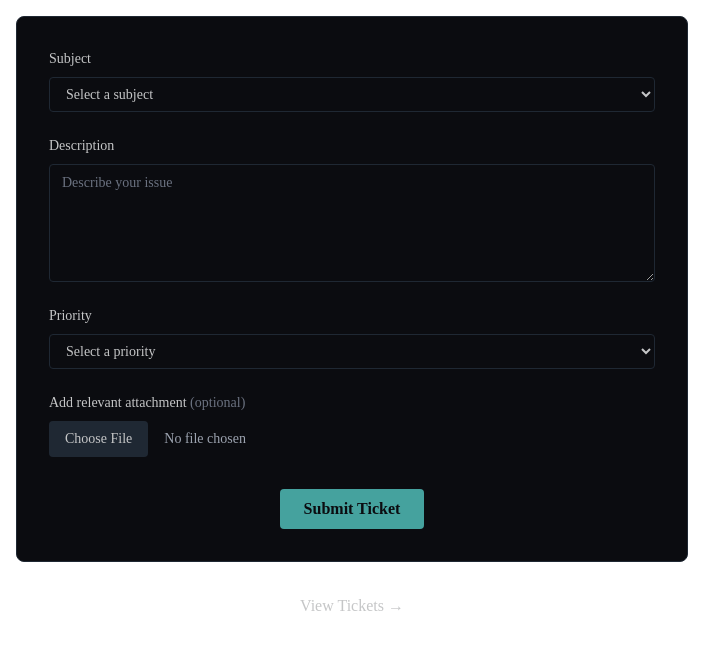
Scenario: TicketPage › submits ticket successfully
This screenshot has width=705, height=672.
Select "Chat" in the dropdown labelled "Subject" at x=352, y=94, box [49, 77, 655, 112]
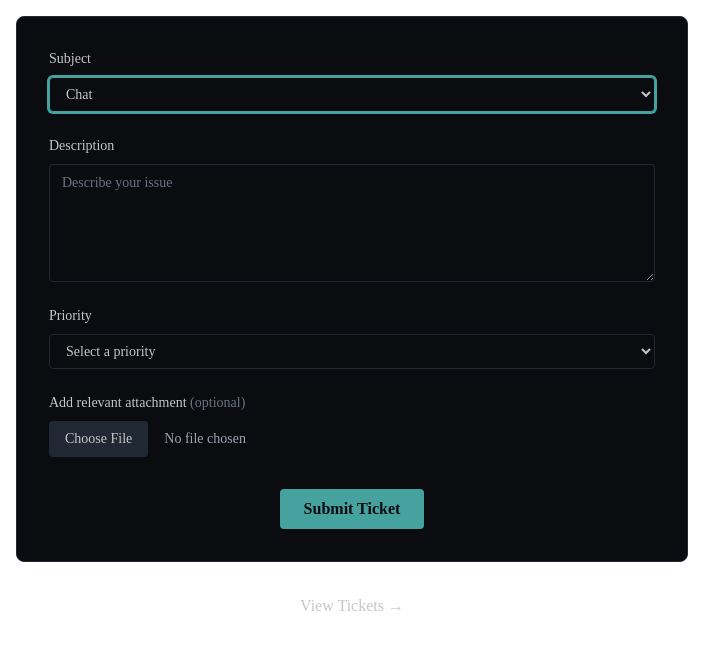
Type "Chat issue" into the text box labelled "Description".
click(352, 223); type("Chat issue")  # box [49, 164, 655, 282]
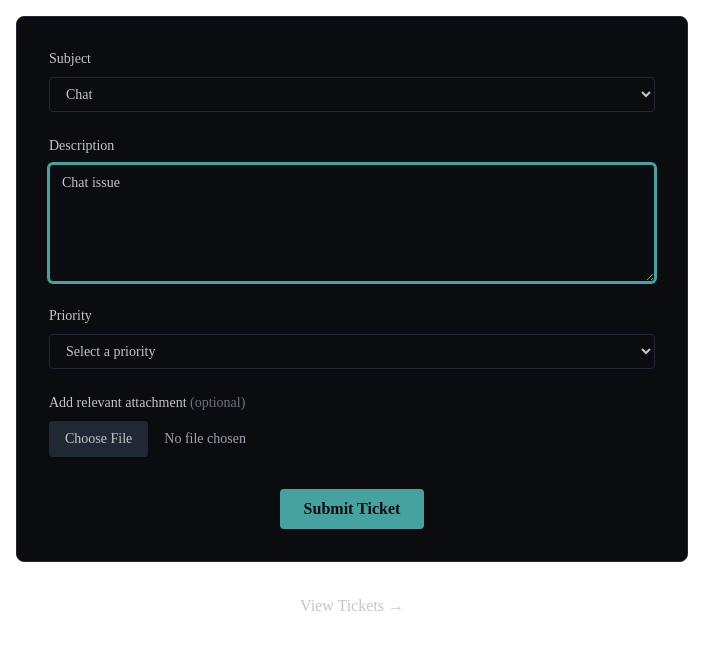
Select "High" in the dropdown labelled "Priority" at x=352, y=352, box [49, 334, 655, 369]
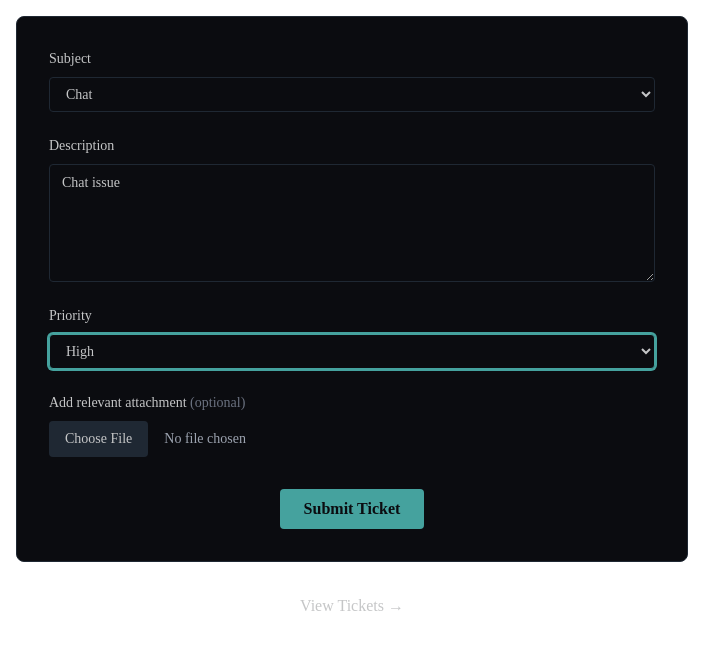
Click the button "Submit Ticket".
click(352, 509)  # box [280, 489, 424, 529]
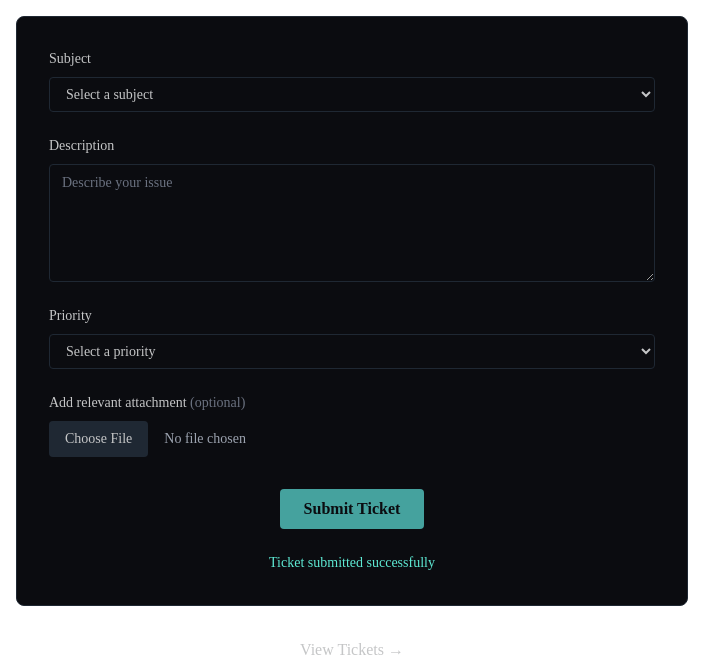
Expected: the text "Ticket submitted successfully" is shown, [269, 555, 435, 570]
